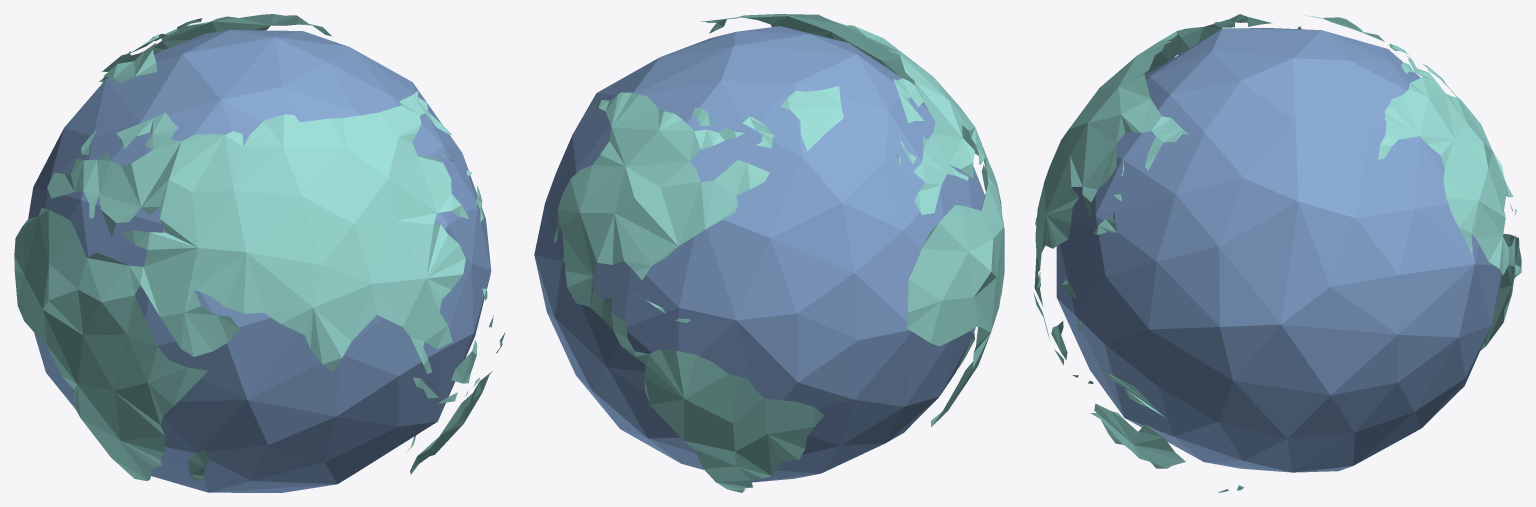
File: paper-orbit-earth.glb
The picture shows the model from 3 angles, left to right: view 1: azimuth 30°, elevation 25°; view 2: azimuth 150°, elevation 25°; view 3: azimuth 270°, elevation 25°; orthographic projection. The views are drawn at different scales.
Parts seen in each view (by area): view 1: EarthLand, EarthOcean; view 2: EarthOcean, EarthLand; view 3: EarthOcean, EarthLand.
Part boxes in pixels (x1=…): EarthLand: x1=14, y1=14, x2=505, y2=481; EarthOcean: x1=28, y1=30, x2=491, y2=492; EarthOcean: x1=534, y1=26, x2=984, y2=482; EarthLand: x1=553, y1=14, x2=1004, y2=492; EarthOcean: x1=1056, y1=28, x2=1502, y2=472; EarthLand: x1=1033, y1=14, x2=1521, y2=492.
Bounding box in the file's own units: 5.59 × 5.33 × 5.76.
